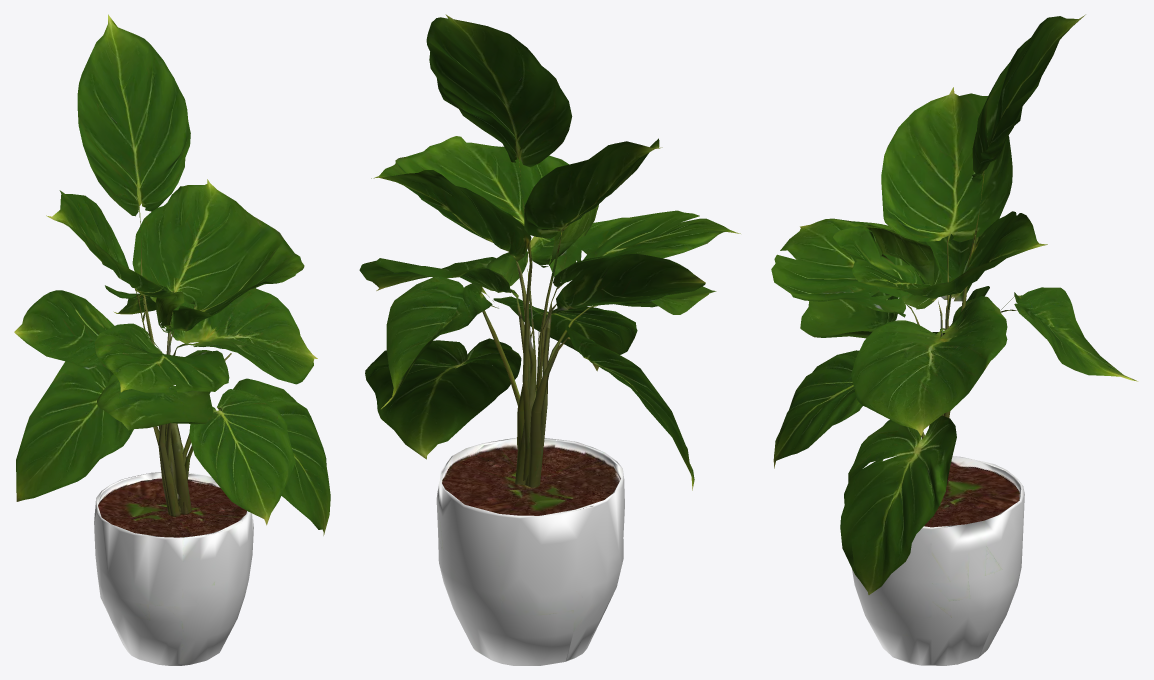
File: PottedPlant.glb
3 views of the same model, side by side, from view 1: azimuth 30°, elevation 25°; view 2: azimuth 150°, elevation 25°; view 3: azimuth 270°, elevation 25° (orthographic). The views are drawn at different scales.
Size of the model in its own units: 0.5054 by 0.9521 by 0.503.
1 material, 1 textured.
